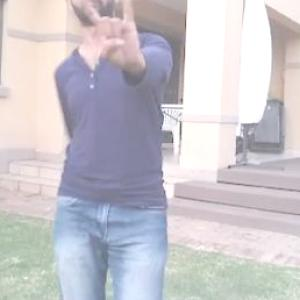takeoff-hand: (74, 0, 146, 77)
